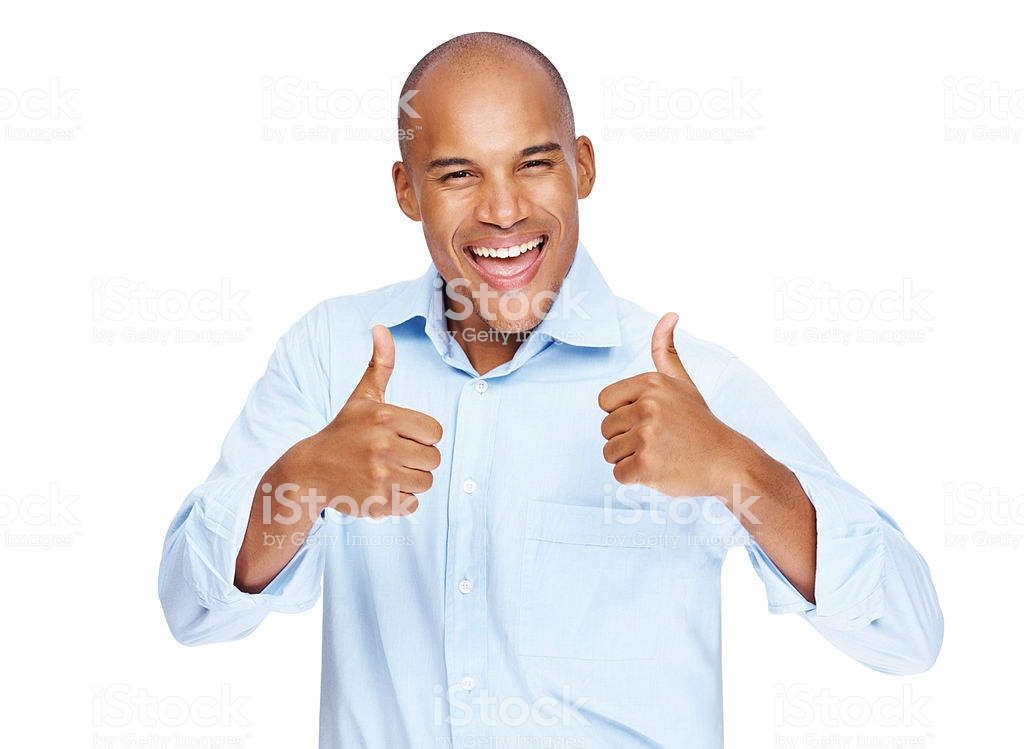thumbsup: (364, 323, 445, 517), (598, 311, 681, 484)
